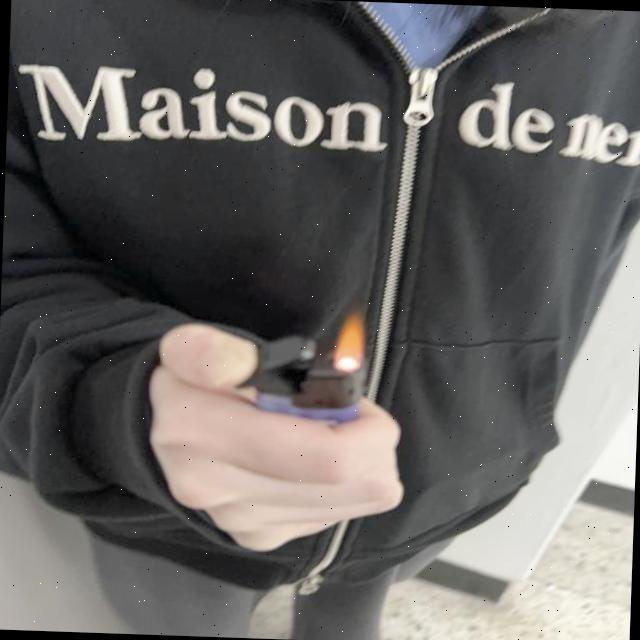fire: (331, 308, 368, 376)
